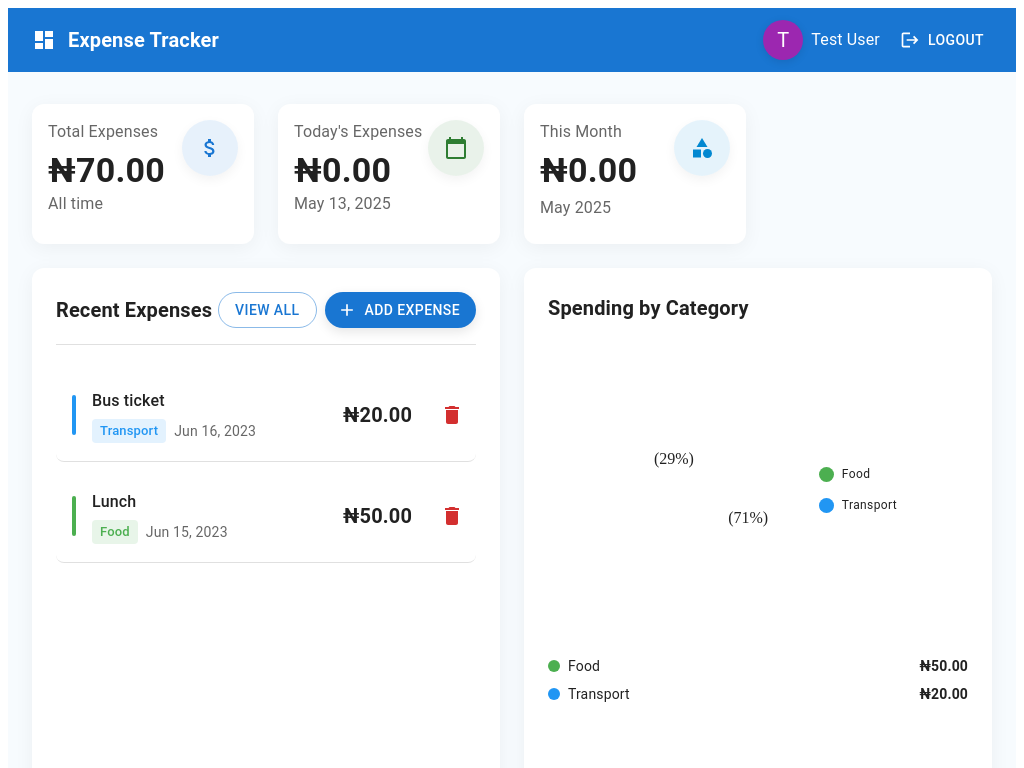
Test: Dashboard Component › opens and closes add expense dialog
The width and height of the screenshot is (1024, 768).
Click the button with test id "add-expense-button". click: click(400, 310)
box: x1=324 y1=292 x2=476 y2=328
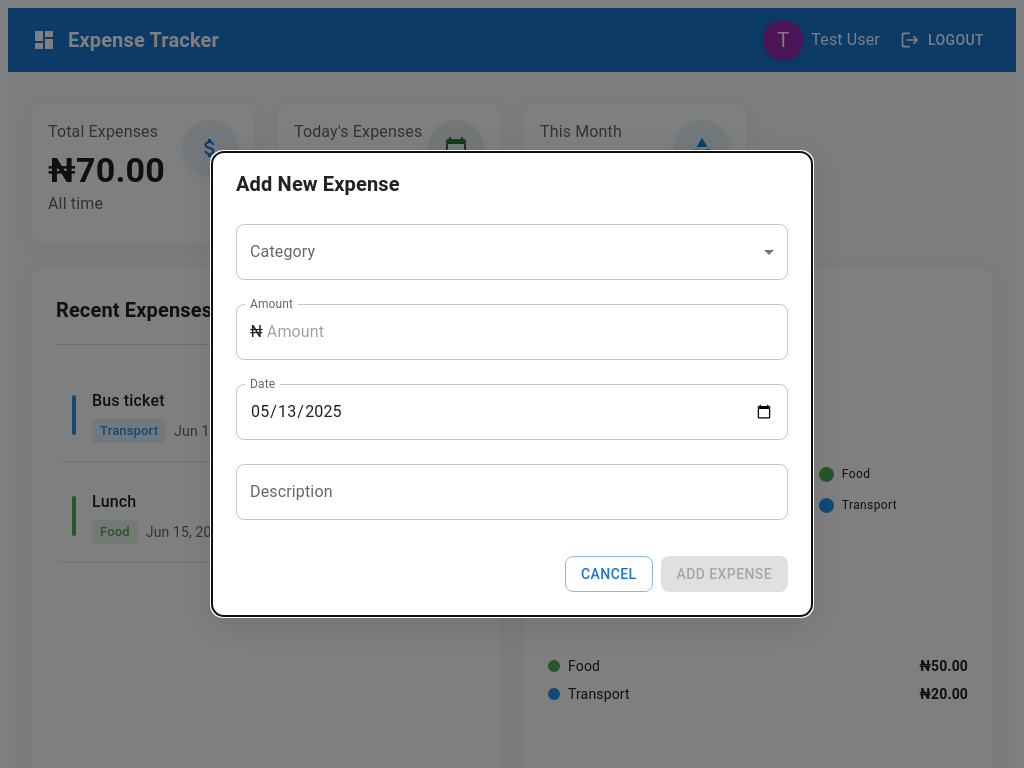
Now the heading "Add New Expense" is shown, box x1=236 y1=172 x2=400 y2=196
Click the button "Cancel". click: click(609, 574)
box: x1=565 y1=556 x2=653 y2=592
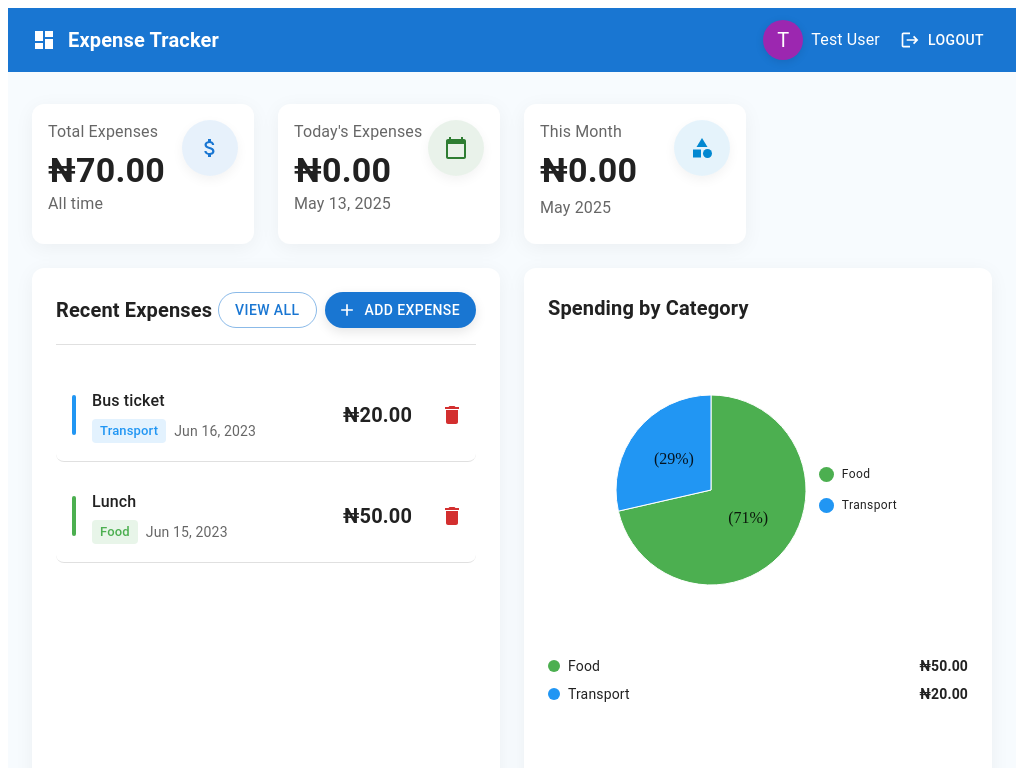
Now the heading "Add New Expense" is gone
